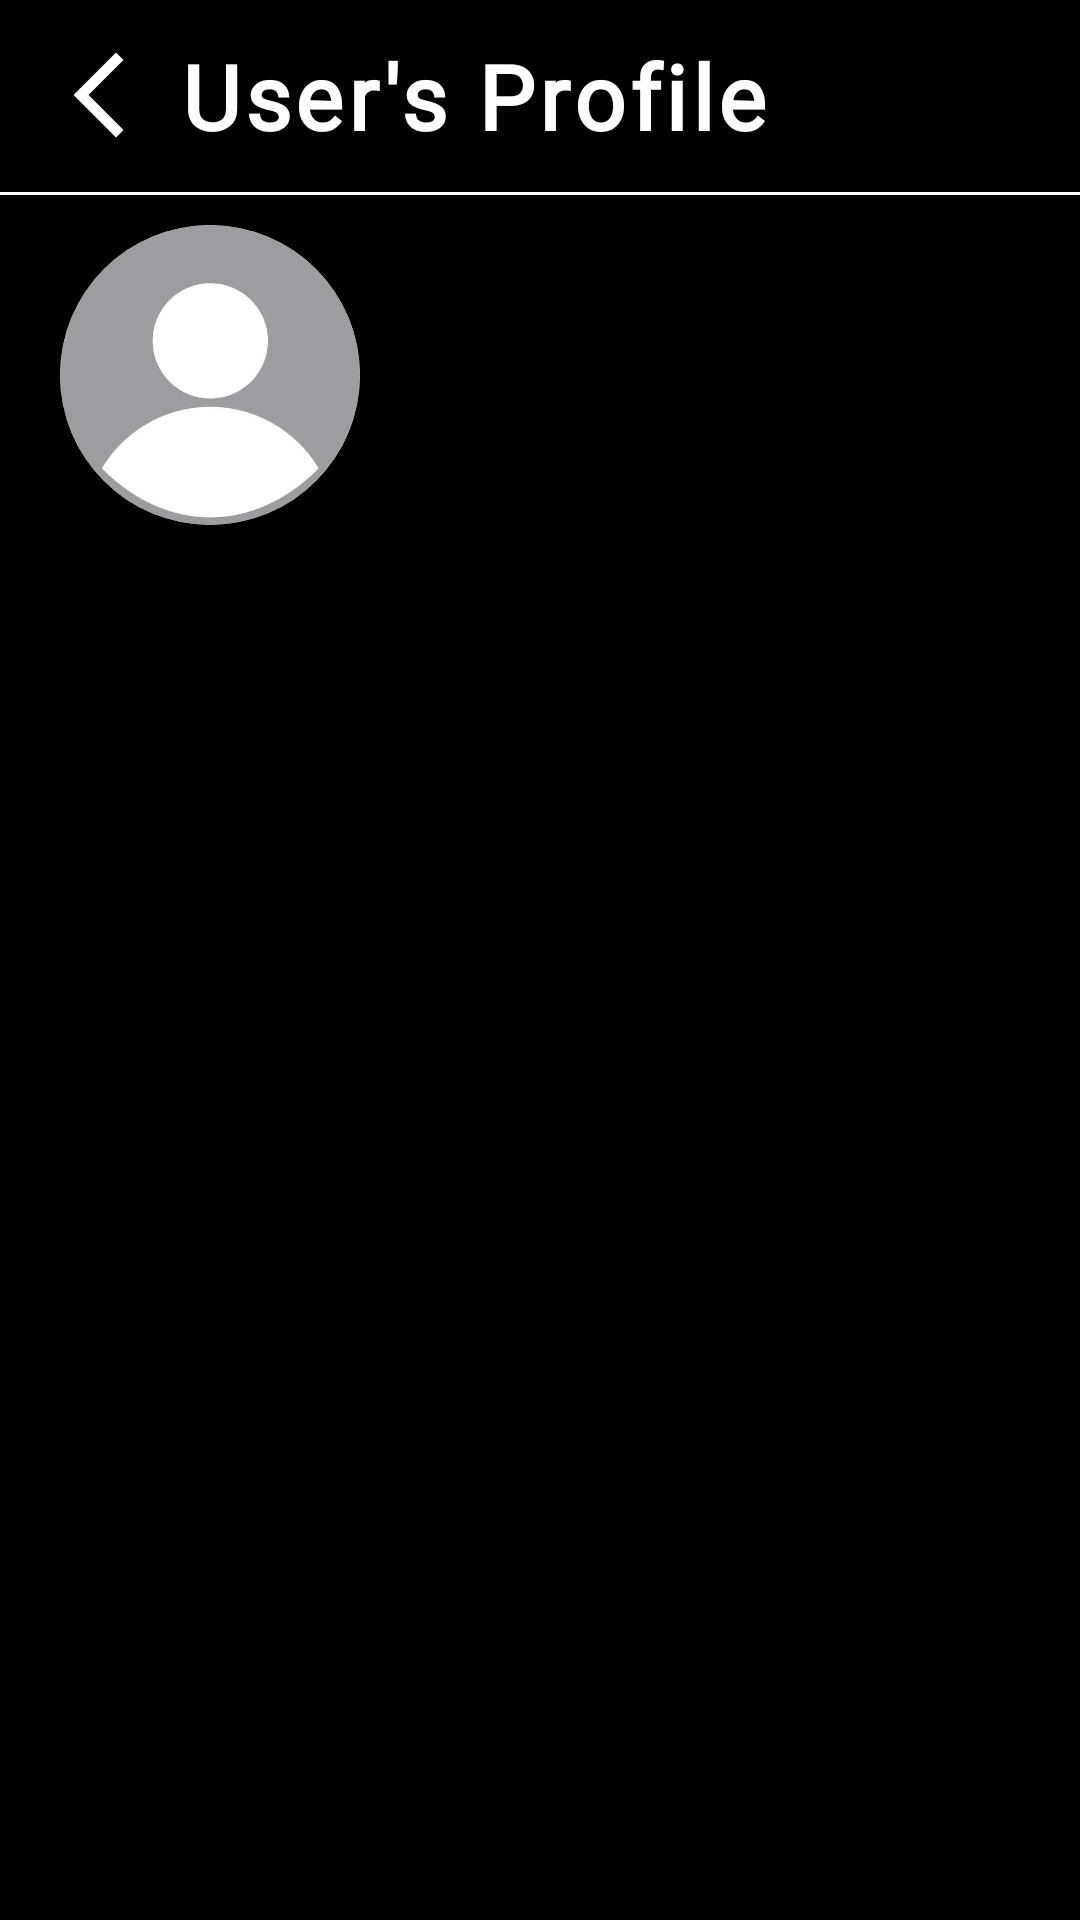

Icons on this 1080*1920 Android screen, each with the point to tap as [x,y]:
back: [98,95]
user profile standard: [210,375]
